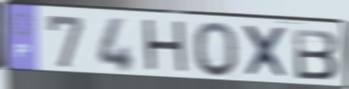4: (95, 15, 136, 74)
7: (44, 13, 85, 70)
B: (291, 27, 341, 82)
H: (140, 17, 191, 77)
O: (192, 20, 241, 80)
X: (240, 23, 293, 81)
